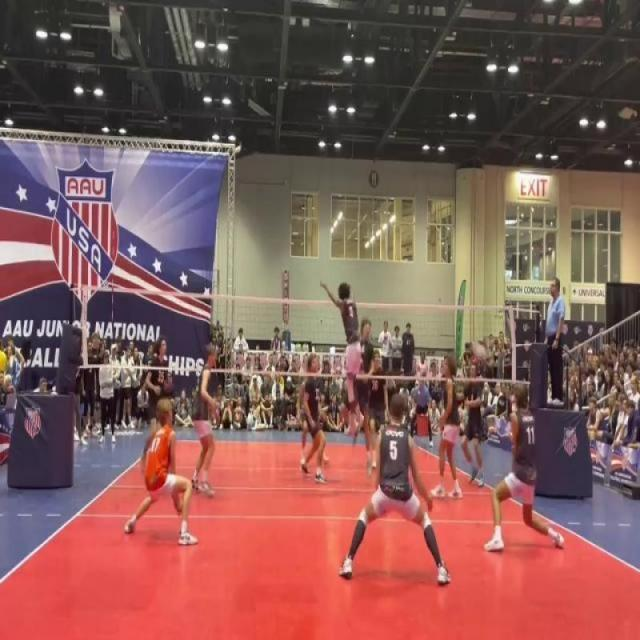volleyball: (470, 342, 490, 359)
